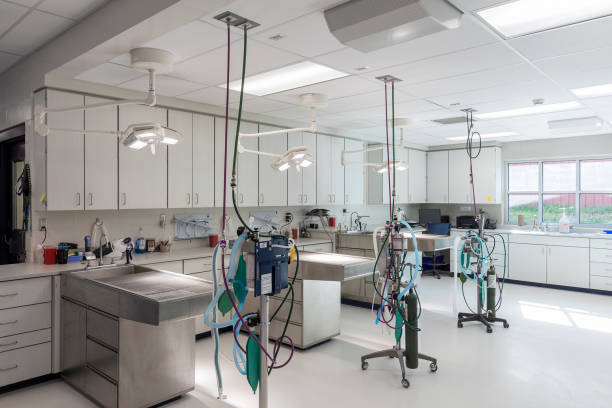cabinet: (31, 89, 352, 208), (375, 144, 502, 208)
computer: (418, 208, 442, 225), (455, 215, 480, 227)
counter: (1, 228, 338, 390), (58, 266, 238, 408), (234, 248, 384, 350), (414, 228, 610, 293), (334, 229, 454, 274)
countertop: (1, 231, 322, 279), (447, 223, 612, 237)
dispenser: (558, 208, 574, 231)
faucet: (91, 234, 113, 266), (181, 218, 208, 243), (348, 210, 365, 231), (530, 213, 540, 230)
handle: (74, 191, 83, 207), (2, 340, 22, 346), (1, 365, 20, 371), (1, 320, 20, 326), (1, 291, 20, 297), (239, 192, 246, 205), (201, 263, 218, 268), (121, 192, 128, 204), (195, 190, 200, 204), (89, 192, 94, 206), (261, 194, 267, 205), (394, 195, 402, 203), (186, 192, 191, 204), (302, 193, 308, 203), (329, 194, 335, 204), (604, 242, 612, 247), (548, 246, 552, 256), (541, 246, 545, 256), (409, 194, 413, 203), (443, 193, 447, 202), (465, 194, 469, 203), (604, 281, 612, 285), (604, 267, 612, 271), (603, 254, 611, 258)
surgical_light: (121, 123, 181, 157), (271, 144, 315, 174), (373, 161, 409, 175)
